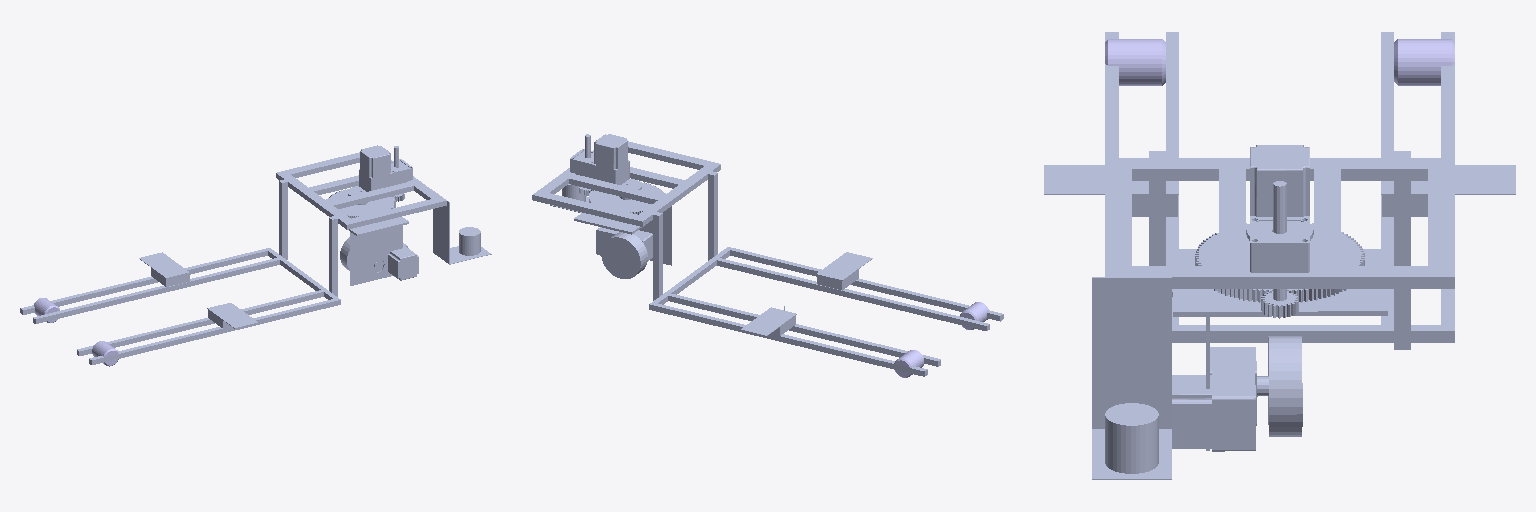
URDF robot description (gearfork_bot):
<?xml version="1.0" encoding="utf-8"?>
<!-- This URDF was automatically created by SolidWorks to URDF Exporter! Originally created by [author] ([email redacted]) 
     Commit Version: 1.6.0-4-g7f85cfe  Build Version: 1.6.7995.38578
     For more information, please see http://wiki.ros.org/sw_urdf_exporter -->
<robot
  name="gearfork_bot">
  <link
    name="base_footprint">
    <inertial>
      <origin
        xyz="-1.66533453693773E-16 -1.11022302462516E-16 0.0150000000000097"
        rpy="0 0 0" />
      <mass
        value="9.42477796076939E-05" />
      <inertia
        ixx="7.09214541547898E-09"
        ixy="1.07638717384255E-56"
        ixz="-2.73196242009685E-42"
        iyy="7.09214541547898E-09"
        iyz="2.54645439948029E-23"
        izz="4.71238898038469E-11" />
    </inertial>
    <visual>
      <origin
        xyz="0 0 0"
        rpy="0 0 0" />
      <geometry>
        <mesh
          filename="package://uv_bot_description/gearfork_bot/meshes/base_footprint.STL" />
      </geometry>
      <material
        name="">
        <color
          rgba="0.792156862745098 0.819607843137255 0.933333333333333 1" />
      </material>
    </visual>
    <collision>
      <origin
        xyz="0 0 0"
        rpy="0 0 0" />
      <geometry>
        <mesh
          filename="package://uv_bot_description/gearfork_bot/meshes/base_footprint.STL" />
      </geometry>
    </collision>
  </link>
  <link
    name="base_link">
    <inertial>
      <origin
        xyz="0.332083153374593 -0.00331447649651206 0.192922352383313"
        rpy="0 0 0" />
      <mass
        value="6.82953904074599" />
      <inertia
        ixx="0.240406964793965"
        ixy="0.012996572440763"
        ixz="-0.196549425056795"
        iyy="0.857443539684563"
        iyz="-0.000466640574438609"
        izz="0.919203079251692" />
    </inertial>
    <visual>
      <origin
        xyz="0 0 0"
        rpy="0 0 0" />
      <geometry>
        <mesh
          filename="package://uv_bot_description/gearfork_bot/meshes/base_link.STL" />
      </geometry>
      <material
        name="">
        <color
          rgba="0.792156862745098 0.819607843137255 0.933333333333333 1" />
      </material>
    </visual>
    <collision>
      <origin
        xyz="0 0 0"
        rpy="0 0 0" />
      <geometry>
        <mesh
          filename="package://uv_bot_description/gearfork_bot/meshes/base_link.STL" />
      </geometry>
    </collision>
  </link>
  <joint
    name="base_joint"
    type="fixed">
    <origin
      xyz="0 0 0.035"
      rpy="0 0 0" />
    <parent
      link="base_footprint" />
    <child
      link="base_link" />
    <axis
      xyz="0 0 0" />
  </joint>
  <link
    name="motor_link">
    <inertial>
      <origin
        xyz="0.0305449765313153 -0.0516187176938839 -0.152664460739497"
        rpy="0 0 0" />
      <mass
        value="3.62949819437905" />
      <inertia
        ixx="0.020873193105549"
        ixy="0.00122762908427952"
        ixz="8.16486496202453E-06"
        iyy="0.0180104324187444"
        iyz="-0.00335879654898832"
        izz="0.0249870479241688" />
    </inertial>
    <visual>
      <origin
        xyz="0 0 0"
        rpy="0 0 0" />
      <geometry>
        <mesh
          filename="package://uv_bot_description/gearfork_bot/meshes/motor_link.STL" />
      </geometry>
      <material
        name="">
        <color
          rgba="0.792156862745098 0.819607843137255 0.933333333333333 1" />
      </material>
    </visual>
    <collision>
      <origin
        xyz="0 0 0"
        rpy="0 0 0" />
      <geometry>
        <mesh
          filename="package://uv_bot_description/gearfork_bot/meshes/motor_link.STL" />
      </geometry>
    </collision>
  </link>
  <joint
    name="motor_joint"
    type="continuous">
    <origin
      xyz="0.6 0 0.287"
      rpy="0 0 0" />
    <parent
      link="base_link" />
    <child
      link="motor_link" />
    <axis
      xyz="0 0 1" />
  </joint>
  <link
    name="wheel_link">
    <inertial>
      <origin
        xyz="0.00017196626651117 -0.0274503580225008 2.22044604925031E-16"
        rpy="0 0 0" />
      <mass
        value="0.919701249338412" />
      <inertia
        ixx="0.00158997015044299"
        ixy="-5.62418653778609E-06"
        ixz="-6.63957229367091E-20"
        iyy="0.00248770363165098"
        iyz="1.16271390580822E-19"
        izz="0.00158993491700959" />
    </inertial>
    <visual>
      <origin
        xyz="0 0 0"
        rpy="0 0 0" />
      <geometry>
        <mesh
          filename="package://uv_bot_description/gearfork_bot/meshes/wheel_link.STL" />
      </geometry>
      <material
        name="">
        <color
          rgba="0.792156862745098 0.819607843137255 0.933333333333333 1" />
      </material>
    </visual>
    <collision>
      <origin
        xyz="0 0 0"
        rpy="0 0 0" />
      <geometry>
        <mesh
          filename="package://uv_bot_description/gearfork_bot/meshes/wheel_link.STL" />
      </geometry>
    </collision>
  </link>
  <joint
    name="wheel_joint"
    type="continuous">
    <origin
      xyz="0.004014 0.033026 -0.247"
      rpy="0 0 0" />
    <parent
      link="motor_link" />
    <child
      link="wheel_link" />
    <axis
      xyz="0.0062645 -0.99998 0" />
  </joint>
  <link
    name="steering_link">
    <inertial>
      <origin
        xyz="2.22044604925031E-16 1.11022302462516E-16 0.0708534190503747"
        rpy="0 0 0" />
      <mass
        value="0.100938321168348" />
      <inertia
        ixx="0.000449053155189826"
        ixy="-1.89271586316295E-20"
        ixz="6.21936423063308E-20"
        iyy="0.000449053155189826"
        iyz="-1.60007749740726E-19"
        izz="1.73496012240567E-05" />
    </inertial>
    <visual>
      <origin
        xyz="0 0 0"
        rpy="0 0 0" />
      <geometry>
        <mesh
          filename="package://uv_bot_description/gearfork_bot/meshes/steering_link.STL" />
      </geometry>
      <material
        name="">
        <color
          rgba="0.792156862745098 0.819607843137255 0.933333333333333 1" />
      </material>
    </visual>
    <collision>
      <origin
        xyz="0 0 0"
        rpy="0 0 0" />
      <geometry>
        <mesh
          filename="package://uv_bot_description/gearfork_bot/meshes/steering_link.STL" />
      </geometry>
    </collision>
  </link>
  <joint
    name="steering_joint"
    type="continuous">
    <origin
      xyz="0.74937 0 0.232"
      rpy="0 0 0" />
    <parent
      link="base_link" />
    <child
      link="steering_link" />
    <axis
      xyz="0 0 1" />
  </joint>
  <link
    name="laser_link">
    <inertial>
      <origin
        xyz="4.44089209850063E-16 0 -0.0395000000000001"
        rpy="0 0 0" />
      <mass
        value="0.39709731141375" />
      <inertia
        ixx="0.000365362617943268"
        ixy="4.15988159834906E-51"
        ixz="-1.21245706409418E-36"
        iyy="0.000365362617943268"
        iyz="6.46109837352292E-20"
        izz="0.000317677849131001" />
    </inertial>
    <visual>
      <origin
        xyz="0 0 0"
        rpy="0 0 0" />
      <geometry>
        <mesh
          filename="package://uv_bot_description/gearfork_bot/meshes/laser_link.STL" />
      </geometry>
      <material
        name="">
        <color
          rgba="0.792156862745098 0.819607843137255 0.933333333333333 1" />
      </material>
    </visual>
    <collision>
      <origin
        xyz="0 0 0"
        rpy="0 0 0" />
      <geometry>
        <mesh
          filename="package://uv_bot_description/gearfork_bot/meshes/laser_link.STL" />
      </geometry>
    </collision>
  </link>
  <joint
    name="laser_joint"
    type="fixed">
    <origin
      xyz="0.93 -0.22 0.146"
      rpy="0 0 0" />
    <parent
      link="base_link" />
    <child
      link="laser_link" />
    <axis
      xyz="0 0 1" />
  </joint>
  <link
    name="lroller_link">
    <inertial>
      <origin
        xyz="0 0.0450000000000002 0"
        rpy="0 0 0" />
      <mass
        value="0.312850268419984" />
      <inertia
        ixx="0.000307324665091248"
        ixy="8.7847735409044E-20"
        ixz="-2.35739885551304E-20"
        iyy="0.000204892709371718"
        iyz="2.69663364159728E-19"
        izz="0.000307324665091248" />
    </inertial>
    <visual>
      <origin
        xyz="0 0 0"
        rpy="0 0 0" />
      <geometry>
        <mesh
          filename="package://uv_bot_description/gearfork_bot/meshes/lroller_link.STL" />
      </geometry>
      <material
        name="">
        <color
          rgba="0.823529411764706 0.823529411764706 1 1" />
      </material>
    </visual>
    <collision>
      <origin
        xyz="0 0 0"
        rpy="0 0 0" />
      <geometry>
        <mesh
          filename="package://uv_bot_description/gearfork_bot/meshes/lroller_link.STL" />
      </geometry>
    </collision>
  </link>
  <joint
    name="lroller_joint"
    type="continuous">
    <origin
      xyz="-0.6 0.17 0.01"
      rpy="0 0 0" />
    <parent
      link="base_link" />
    <child
      link="lroller_link" />
    <axis
      xyz="0 1 0" />
    <dynamics
      friction="0.1" />
  </joint>
  <link
    name="rroller_link">
    <inertial>
      <origin
        xyz="1.66533453693773E-16 -0.0449999999999999 2.22044604925031E-16"
        rpy="0 0 0" />
      <mass
        value="0.312850268419983" />
      <inertia
        ixx="0.000307324665091247"
        ixy="3.35271630897544E-19"
        ixz="-8.68653616963297E-21"
        iyy="0.000204892709371718"
        iyz="4.43633506124443E-20"
        izz="0.000307324665091247" />
    </inertial>
    <visual>
      <origin
        xyz="0 0 0"
        rpy="0 0 0" />
      <geometry>
        <mesh
          filename="package://uv_bot_description/gearfork_bot/meshes/rroller_link.STL" />
      </geometry>
      <material
        name="">
        <color
          rgba="0.823529411764706 0.823529411764706 1 1" />
      </material>
    </visual>
    <collision>
      <origin
        xyz="0 0 0"
        rpy="0 0 0" />
      <geometry>
        <mesh
          filename="package://uv_bot_description/gearfork_bot/meshes/rroller_link.STL" />
      </geometry>
    </collision>
  </link>
  <joint
    name="rroller_joint"
    type="continuous">
    <origin
      xyz="-0.6 -0.17 0.01"
      rpy="0 0 0" />
    <parent
      link="base_link" />
    <child
      link="rroller_link" />
    <axis
      xyz="0 1 0" />
    <dynamics
      friction="0.1" />
  </joint>
</robot>

--- Facts derived from the render (not from the file) ---
3 views of the same robot in one strip: view 1: azimuth 30°, elevation 25°; view 2: azimuth 150°, elevation 25°; view 3: azimuth 270°, elevation 25° (orthographic).
Robot: gearfork_bot — 8 links, 7 joints (5 continuous, 2 fixed); root link base_footprint; default pose: all joints at 0.
Visible links, largest first — view 1: base_link, motor_link, laser_link; view 2: base_link, motor_link, wheel_link; view 3: base_link, motor_link, wheel_link, laser_link, rroller_link, lroller_link, steering_link.
Boxes of the visible links, box(x1,y1,x2,y2) form: base_link: box(20, 145, 491, 364); motor_link: box(326, 189, 418, 285); laser_link: box(459, 227, 480, 255); base_link: box(532, 134, 1003, 376); motor_link: box(574, 182, 671, 265); wheel_link: box(601, 232, 647, 278); base_link: box(1044, 32, 1515, 479); motor_link: box(1172, 223, 1387, 451); wheel_link: box(1257, 336, 1302, 436); laser_link: box(1105, 403, 1158, 473); rroller_link: box(1105, 39, 1165, 85); lroller_link: box(1394, 39, 1454, 85); steering_link: box(1261, 181, 1298, 318).
Bounding box of the posed robot: 1.67 × 0.7 × 0.477 m (x, y, z).
8 mesh visuals loaded from 8 distinct referenced files (8 binary STL).